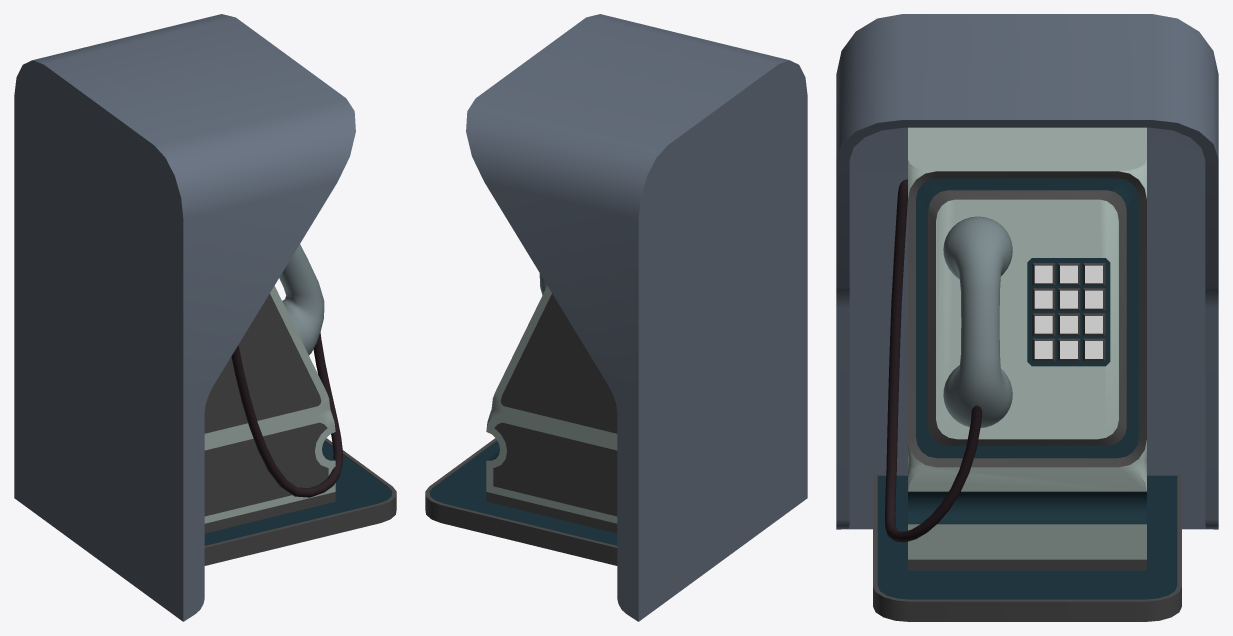
The model's file is 17_5_Model_AIRPORT_0.obj.
The picture shows the model from 3 angles, left to right: view 1: azimuth 30°, elevation 25°; view 2: azimuth 150°, elevation 25°; view 3: azimuth 270°, elevation 25°; orthographic projection. The views are drawn at different scales.
Parts seen in each view (by area): view 1: 17.5.Model_AIRPORT_0; view 2: 17.5.Model_AIRPORT_0; view 3: 17.5.Model_AIRPORT_0.
Boxes of the visible parts, bbox=[...] form: 17.5.Model_AIRPORT_0: bbox=[14, 14, 396, 621]; 17.5.Model_AIRPORT_0: bbox=[425, 14, 807, 621]; 17.5.Model_AIRPORT_0: bbox=[836, 14, 1218, 621].
Size of the model in its own units: 0.508 by 0.9149 by 0.616.
Materials: 1 (1 with a texture image).
